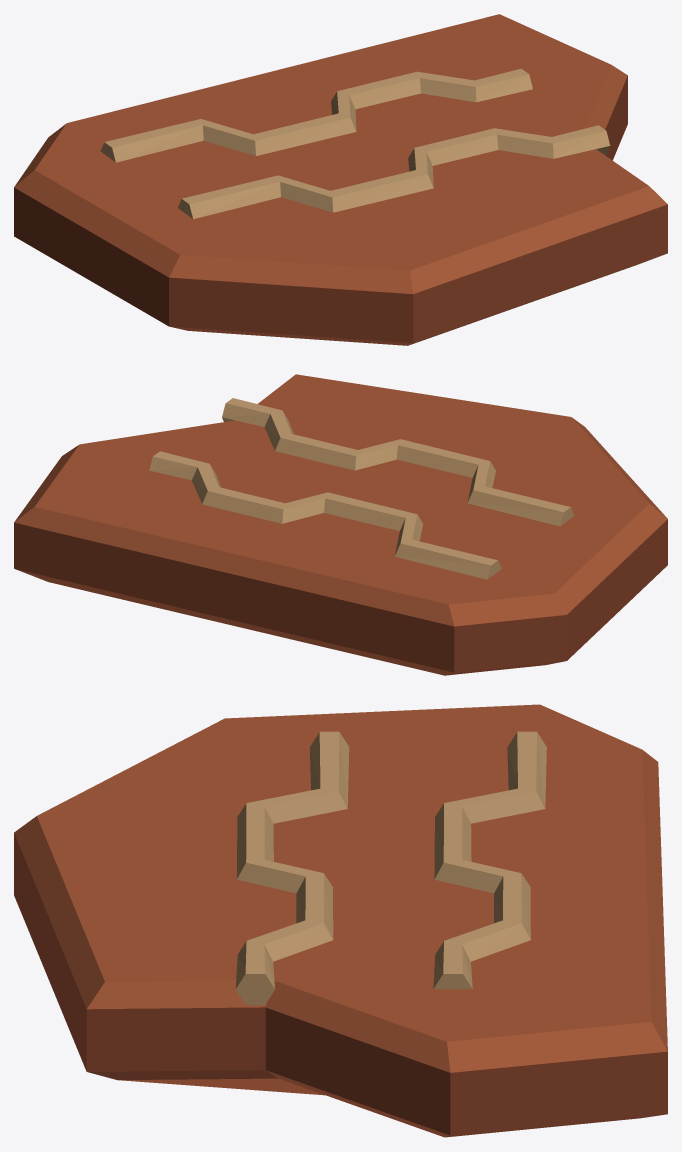
Rendered from duenenmeer_06.glb.
The picture shows the model from 3 angles, top to bottom: view 1: azimuth 30°, elevation 25°; view 2: azimuth 150°, elevation 25°; view 3: azimuth 270°, elevation 25°; orthographic projection. The views are drawn at different scales.
Parts seen in each view (by area): view 1: duenenmeer_06; view 2: duenenmeer_06; view 3: duenenmeer_06.
Part boxes in pixels (bbox=[...]): duenenmeer_06: bbox=[14, 14, 667, 345]; duenenmeer_06: bbox=[14, 374, 667, 675]; duenenmeer_06: bbox=[14, 704, 667, 1137].
Bounding box in the file's own units: 2 × 0.3079 × 1.54.
